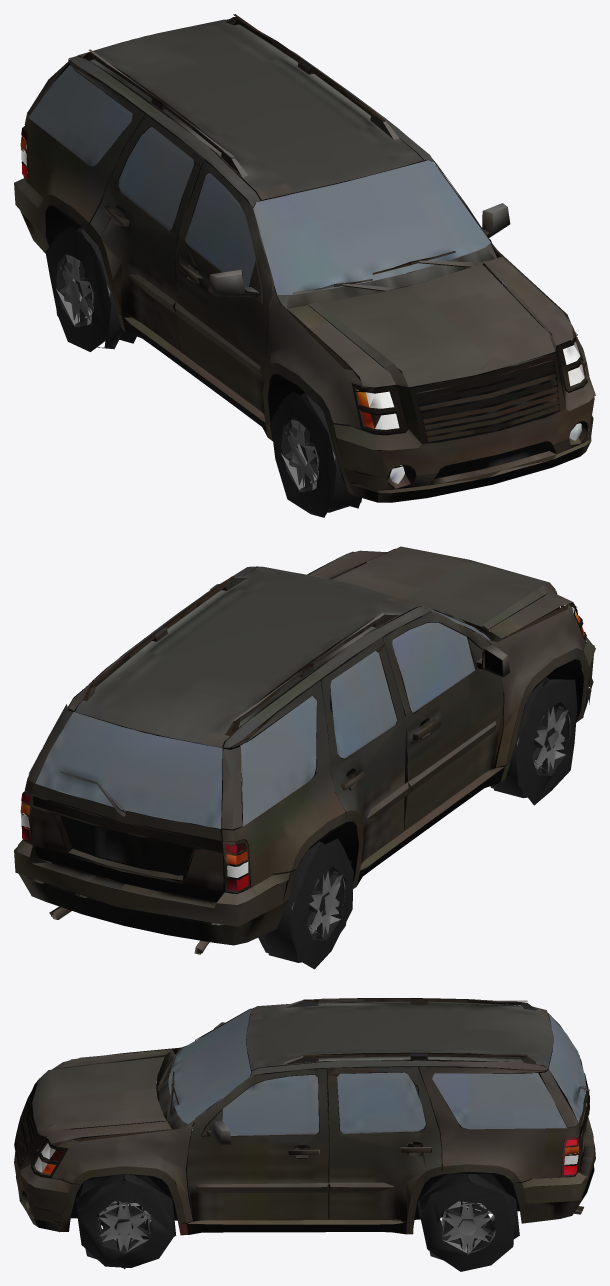
The model's file is pack-suv-L2.glb.
3 renders of one model, top to bottom at view 1: azimuth 30°, elevation 25°; view 2: azimuth 150°, elevation 25°; view 3: azimuth 270°, elevation 25°, orthographic. The views are drawn at different scales.
Visible parts, largest first — view 1: body, wheel-front-left.1, wheel-back-left.1, wheel-back-left.2, wheel-front-left.2; view 2: body, wheel-back-left.1, wheel-front-left.1, wheel-back-left.2, wheel-front-left.2; view 3: body, wheel-back-right, wheel-front-right, wheel-back-right.1, wheel-front-right.1.
Part boxes in pixels (bbox=[...]): body: bbox=[14, 14, 595, 502]; wheel-front-left.1: bbox=[270, 391, 361, 517]; wheel-back-left.1: bbox=[45, 226, 136, 351]; wheel-back-left.2: bbox=[56, 255, 110, 325]; wheel-front-left.2: bbox=[281, 420, 335, 490]; body: bbox=[14, 546, 595, 954]; wheel-back-left.1: bbox=[258, 838, 353, 969]; wheel-front-left.1: bbox=[490, 677, 577, 805]; wheel-back-left.2: bbox=[291, 870, 345, 937]; wheel-front-left.2: bbox=[516, 706, 570, 773]; body: bbox=[14, 998, 595, 1235]; wheel-back-right: bbox=[417, 1173, 519, 1271]; wheel-front-right: bbox=[75, 1174, 176, 1269]; wheel-back-right.1: bbox=[441, 1201, 495, 1254]; wheel-front-right.1: bbox=[98, 1201, 150, 1252].
Bounding box in the file's own units: 2.07 × 1.8 × 4.62.
Materials: 3 (1 with a texture image).
